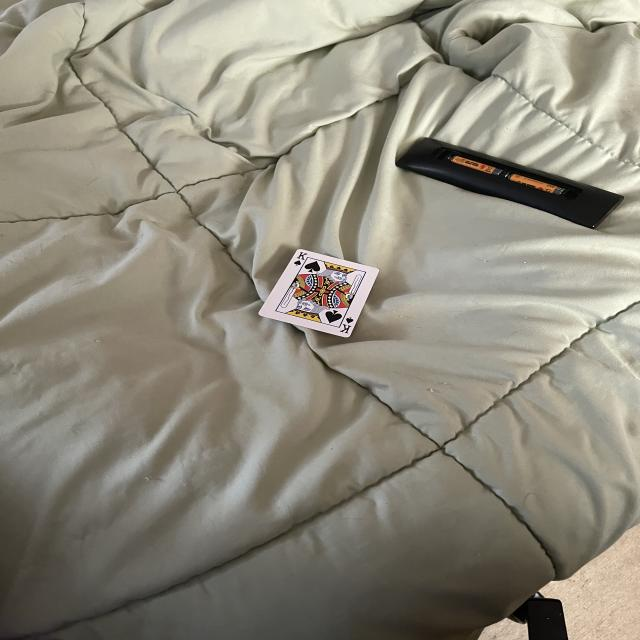King of spades: (259, 248, 382, 340)
